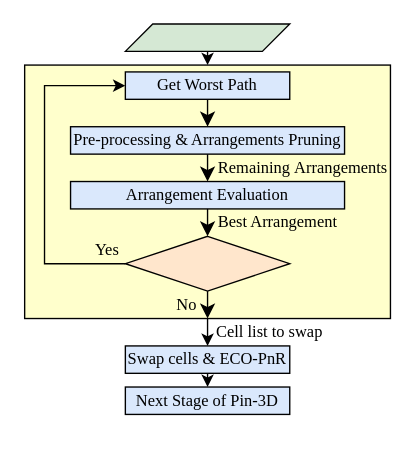
This 415x449 diagram has some shape labels left out. The centre of each missing label's shape, as x and y in pixels:
Routed Design: (x=207, y=37)
WNS improved?: (x=207, y=263)
